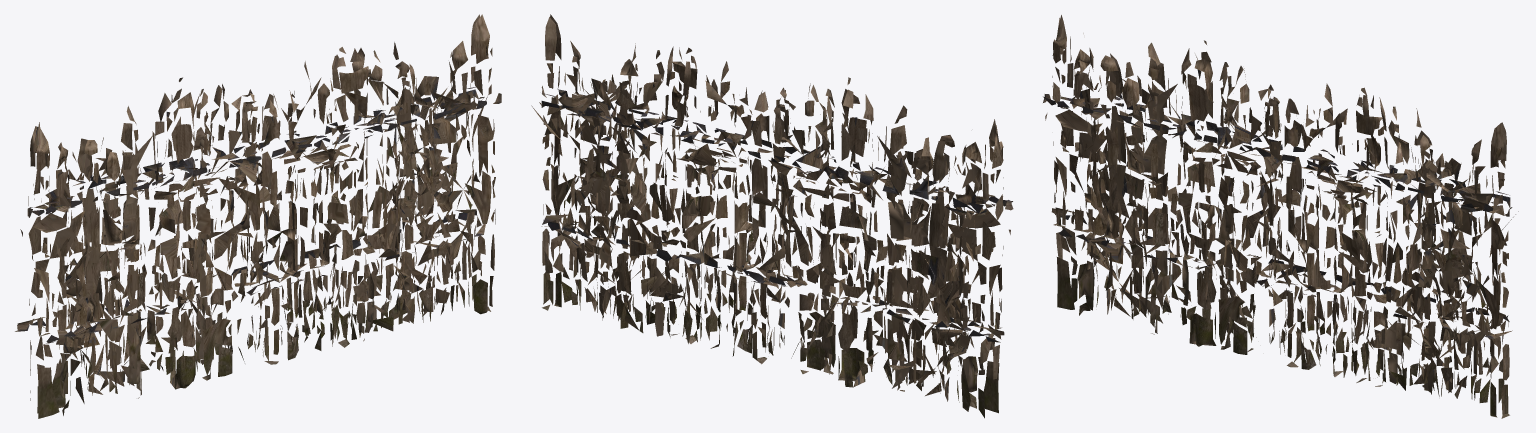
File: palisade.glb
3 views of the same model, side by side, from view 1: azimuth 30°, elevation 25°; view 2: azimuth 150°, elevation 25°; view 3: azimuth 330°, elevation 25° (orthographic).
Size of the model in its own units: 1.89 by 1.17 by 0.1043.
1 material, 1 textured.
